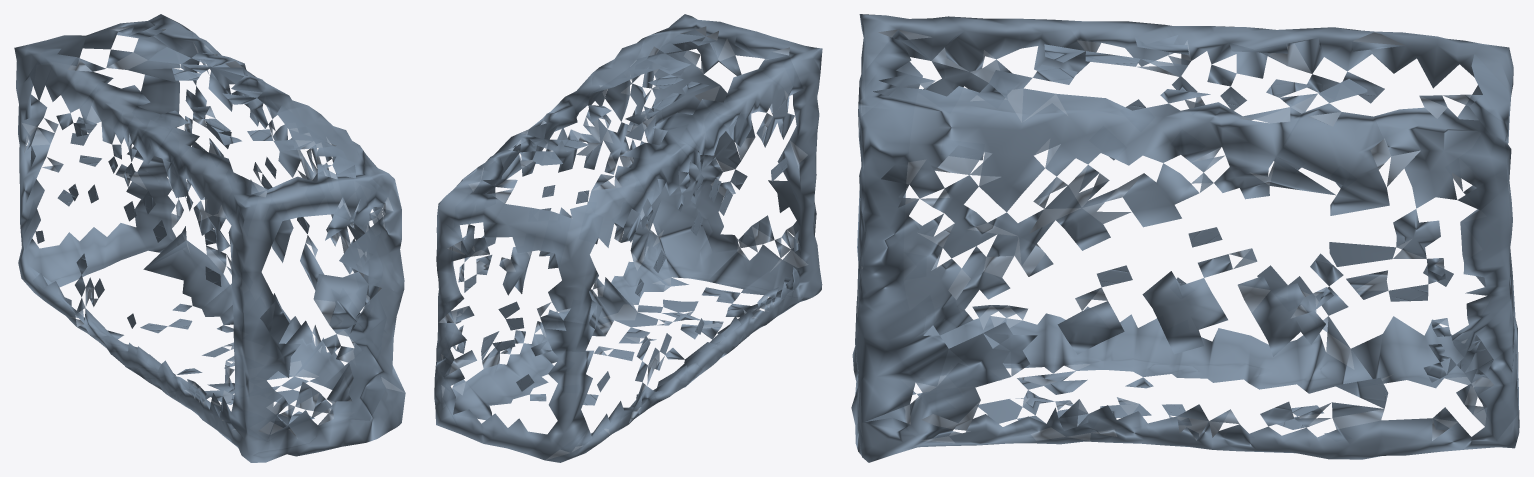
Rendered from dresser_0065_recon.obj.
3 renders of one model, left to right at view 1: azimuth 30°, elevation 25°; view 2: azimuth 150°, elevation 25°; view 3: azimuth 270°, elevation 25°, orthographic. The views are drawn at different scales.
Size of the model in its own units: 0.5784 by 0.892 by 1.52.
